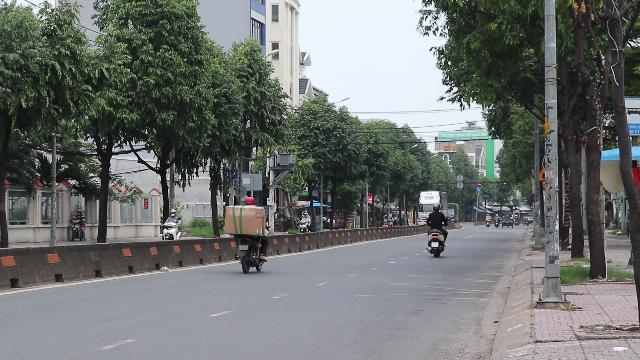helmet: (243, 196, 255, 204)
motorcyclist: (222, 195, 270, 273)
